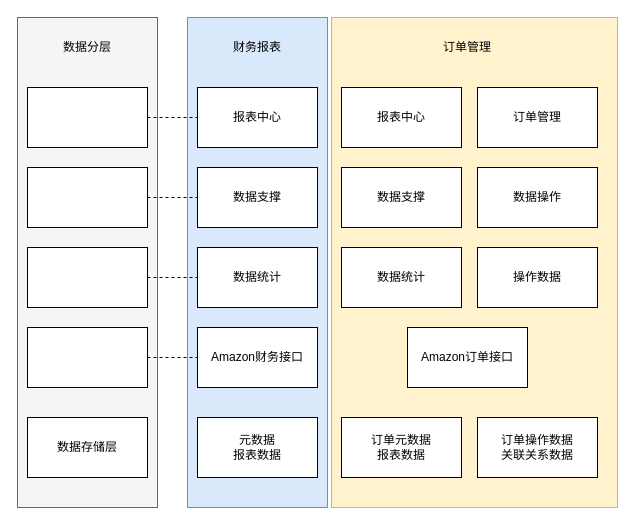
This 635x525 diagram has some shape labels left out. The shapes that lost their labels are listed below. From the top down, each one's centre as x and y in pixels, then its label:
At point (87, 117): "数据应用层".
At point (87, 197): "数据服务层".
At point (87, 277): "数据计算层".
At point (87, 357): "数据采集层".
